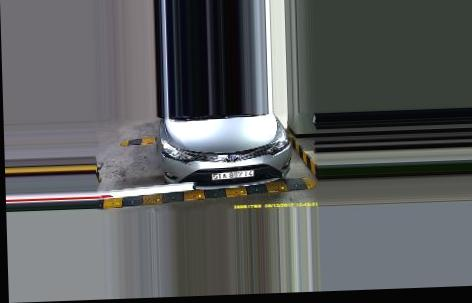License_Plate: (212, 167, 256, 181)
